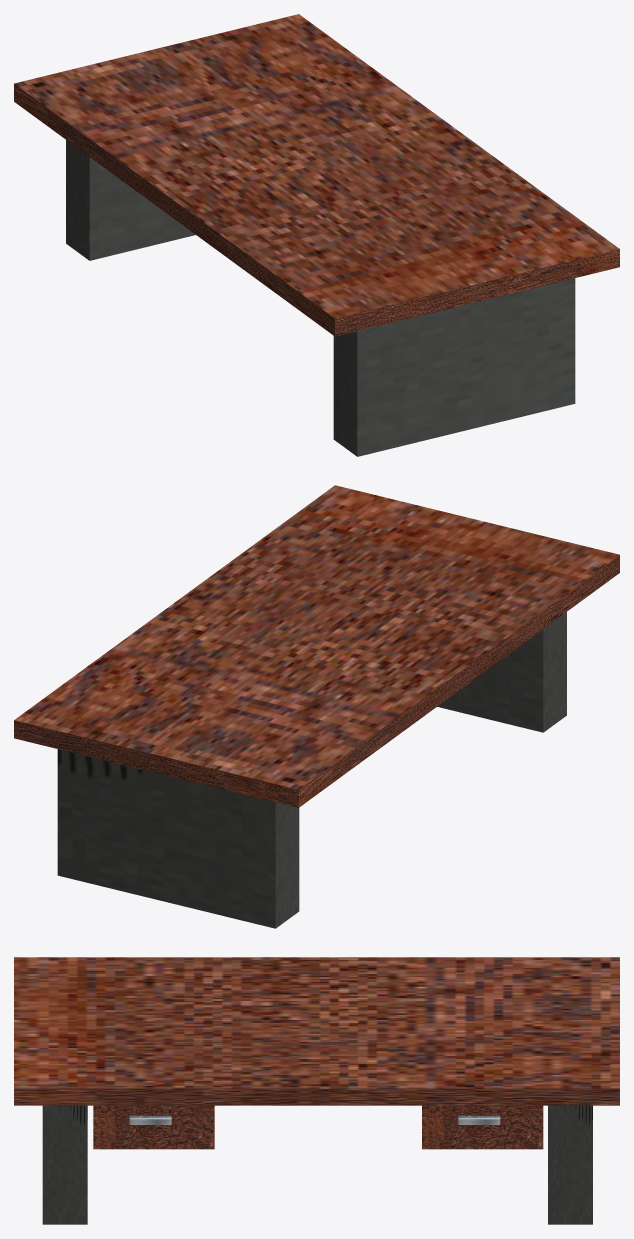
File: basic_wood_desk.glb
3 views of the same model, one above another, from view 1: azimuth 30°, elevation 25°; view 2: azimuth 150°, elevation 25°; view 3: azimuth 270°, elevation 25° (orthographic). The views are drawn at different scales.
Parts seen in each view (by area): view 1: Cube-col, L Leg, R Leg; view 2: Cube-col, R Leg, L Leg; view 3: Cube-col, L Leg, R Leg, Inner Drawer.001, Inner Drawer, Drawer, Drawer.001, Handle, Handle.001.
Boxes of the visible parts, x1=… form: Cube-col: x1=14, y1=14, x2=619, y2=336; L Leg: x1=333, y1=278, x2=575, y2=456; R Leg: x1=66, y1=140, x2=195, y2=260; Cube-col: x1=14, y1=485, x2=619, y2=807; R Leg: x1=57, y1=749, x2=299, y2=928; L Leg: x1=437, y1=612, x2=566, y2=732; Cube-col: x1=14, y1=957, x2=619, y2=1105; L Leg: x1=42, y1=1105, x2=87, y2=1224; R Leg: x1=548, y1=1105, x2=592, y2=1224; Inner Drawer.001: x1=429, y1=1105, x2=531, y2=1140; Inner Drawer: x1=101, y1=1105, x2=202, y2=1140; Drawer: x1=93, y1=1105, x2=214, y2=1149; Drawer.001: x1=422, y1=1105, x2=543, y2=1149; Handle: x1=129, y1=1115, x2=171, y2=1124; Handle.001: x1=458, y1=1115, x2=500, y2=1124.
Size of the model in its own units: 5.12 by 2.73 by 10.
Materials: 3 (3 with a texture image).
